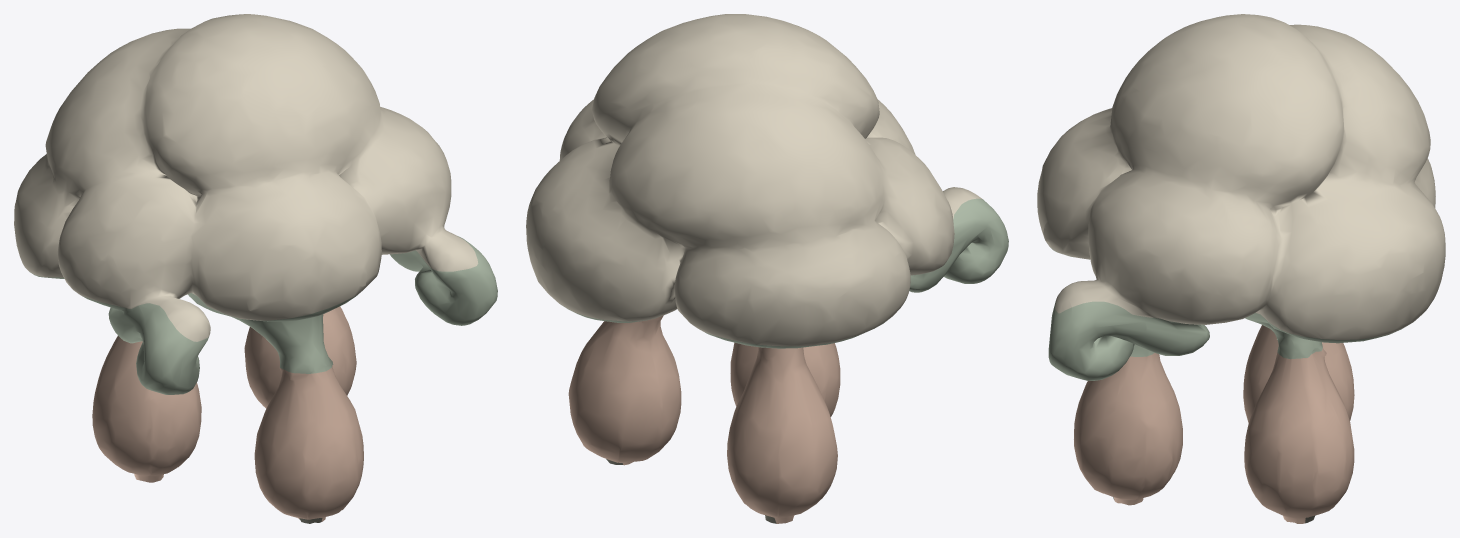
Rendered from cloud-jelly.glb.
3 views of the same model, side by side, from view 1: azimuth 30°, elevation 25°; view 2: azimuth 150°, elevation 25°; view 3: azimuth 270°, elevation 25° (orthographic). The views are drawn at different scales.
Visible parts, largest first — view 1: cloud jelly; view 2: cloud jelly; view 3: cloud jelly.
Part boxes in pixels (left/top/right/bottom): cloud jelly: left=14, top=14, right=497, bottom=523; cloud jelly: left=526, top=14, right=1008, bottom=523; cloud jelly: left=1037, top=14, right=1445, bottom=523.
Bounding box in the file's own units: 2.21 × 2.6 × 2.08.
